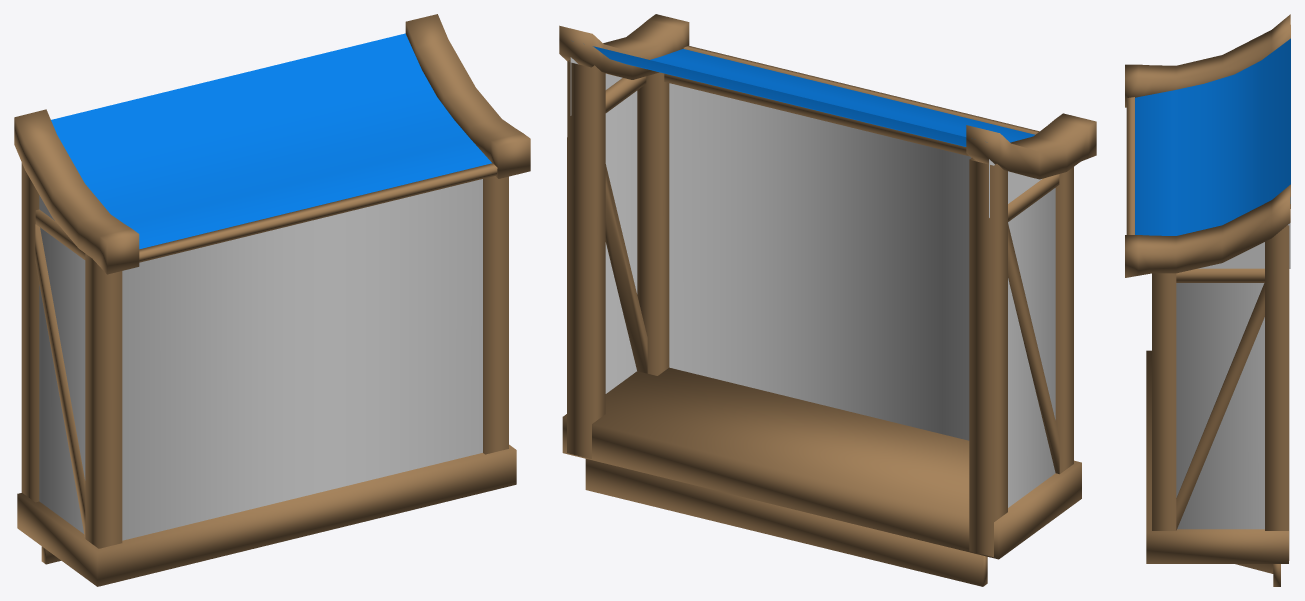
The model's file is porcho_low.fbx.
3 renders of one model, left to right at view 1: azimuth 30°, elevation 25°; view 2: azimuth 150°, elevation 25°; view 3: azimuth 270°, elevation 25°, orthographic. The views are drawn at different scales.
Visible parts, largest first — view 1: Porcho; view 2: Porcho; view 3: Porcho.
Part boxes in pixels (left/top/right/bottom): Porcho: left=14, top=14, right=530, bottom=586; Porcho: left=559, top=14, right=1096, bottom=586; Porcho: left=1125, top=14, right=1290, bottom=586.
Bounding box in the file's own units: 271 × 273 × 103.
